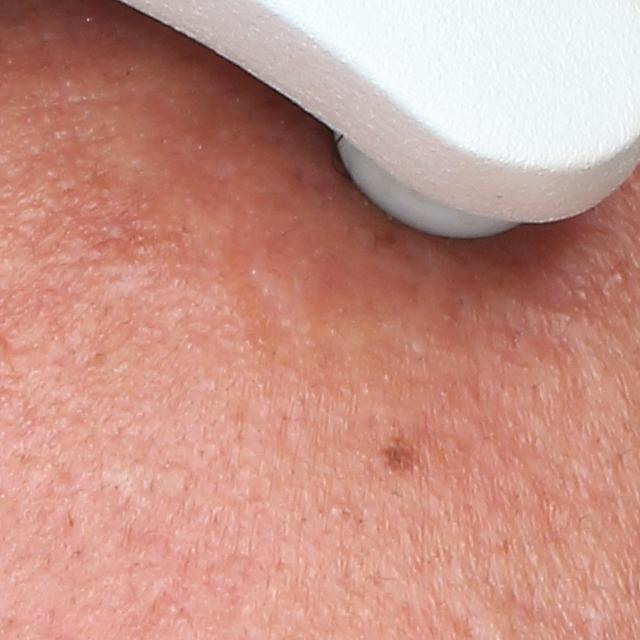comedo: (333, 503, 356, 523)
nevus: (375, 432, 427, 481)
